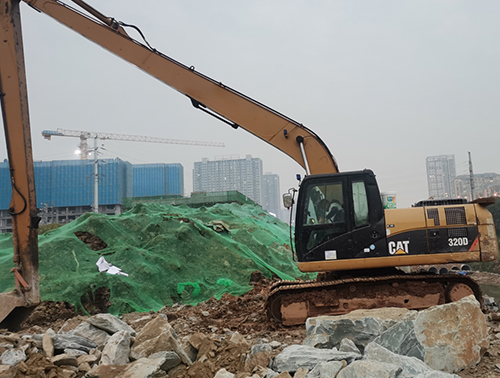excavator: (1, 1, 500, 335)
